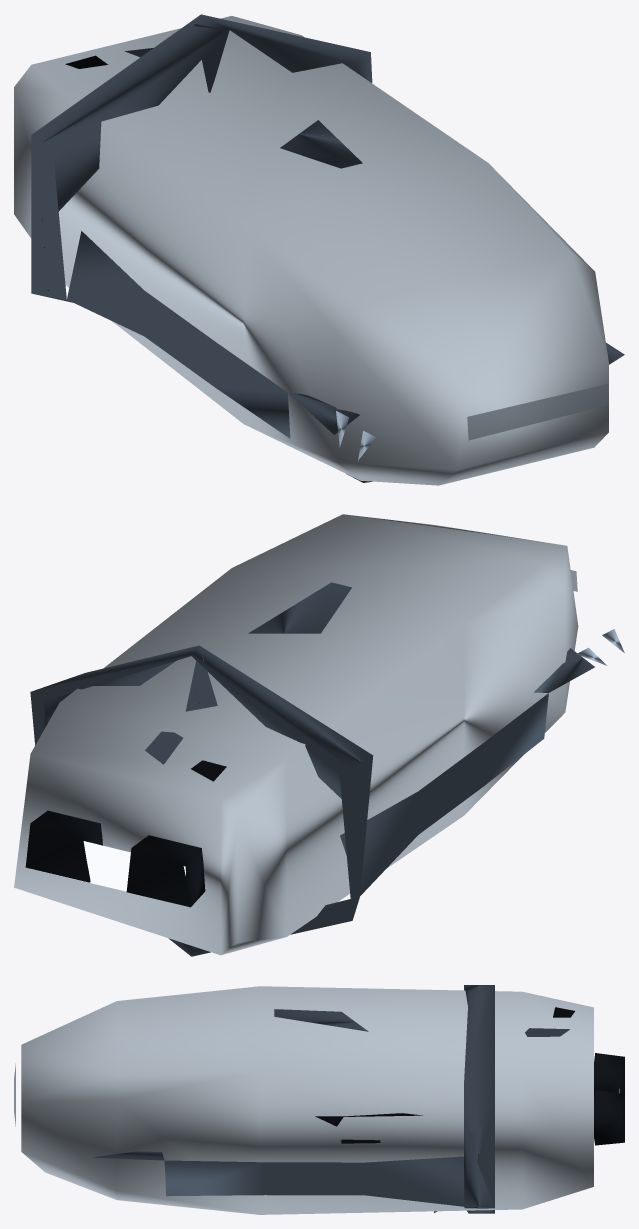
Rendered from paragraf-wykonawcy-trade-14-lod2.glb.
3 views of the same model, one above another, from view 1: azimuth 30°, elevation 25°; view 2: azimuth 150°, elevation 25°; view 3: azimuth 270°, elevation 25° (orthographic). The views are drawn at different scales.
Bounding box in the file's own units: 10.05 × 8.96 × 21.97.
